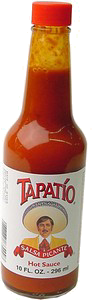grozi_44: (0, 0, 86, 299)
